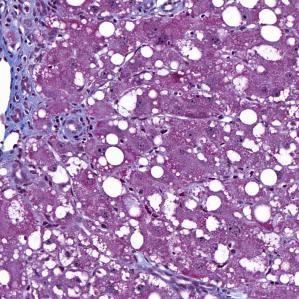fibrosis: (0, 0, 53, 136)
